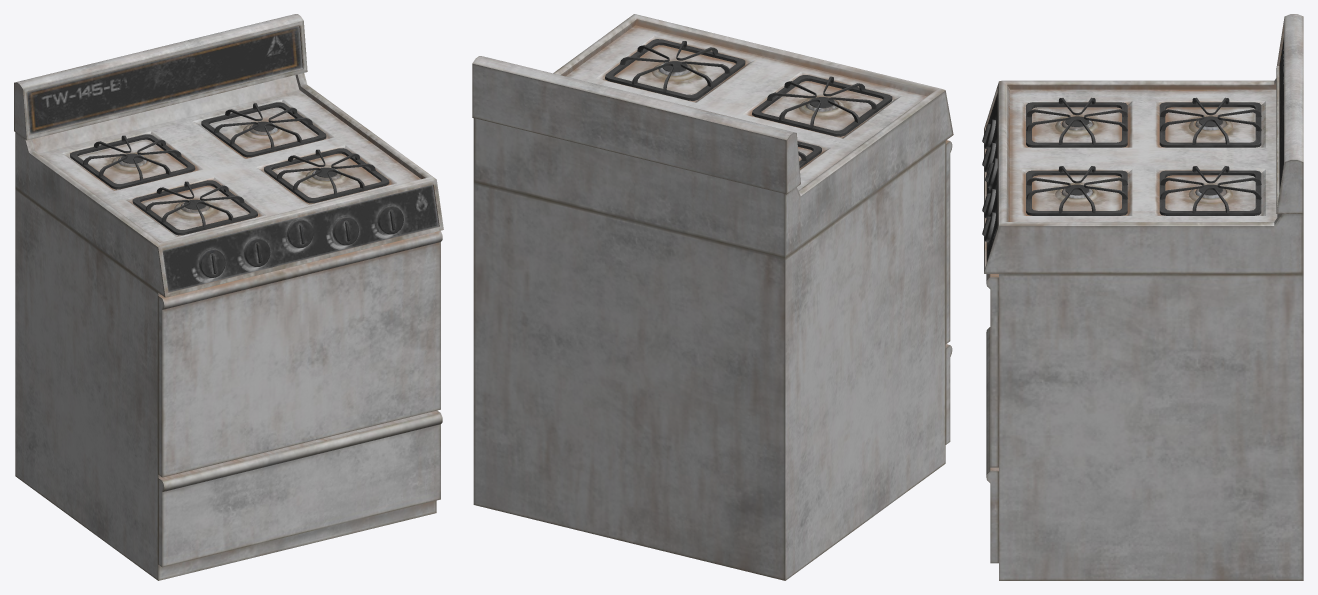
Rendered from obj_gas_stove_fe4339.glb.
3 views of the same model, side by side, from view 1: azimuth 30°, elevation 25°; view 2: azimuth 150°, elevation 25°; view 3: azimuth 270°, elevation 25° (orthographic). The views are drawn at different scales.
Parts seen in each view (by area): view 1: obj_gas_stove_fe4339; view 2: obj_gas_stove_fe4339; view 3: obj_gas_stove_fe4339.
Boxes of the visible parts, <box> form: obj_gas_stove_fe4339: <box>14,14,443,580</box>; obj_gas_stove_fe4339: <box>472,14,953,580</box>; obj_gas_stove_fe4339: <box>982,14,1303,580</box>.
Bounding box in the file's own units: 0.6675 × 0.9 × 0.6217.
1 material, 1 textured.
